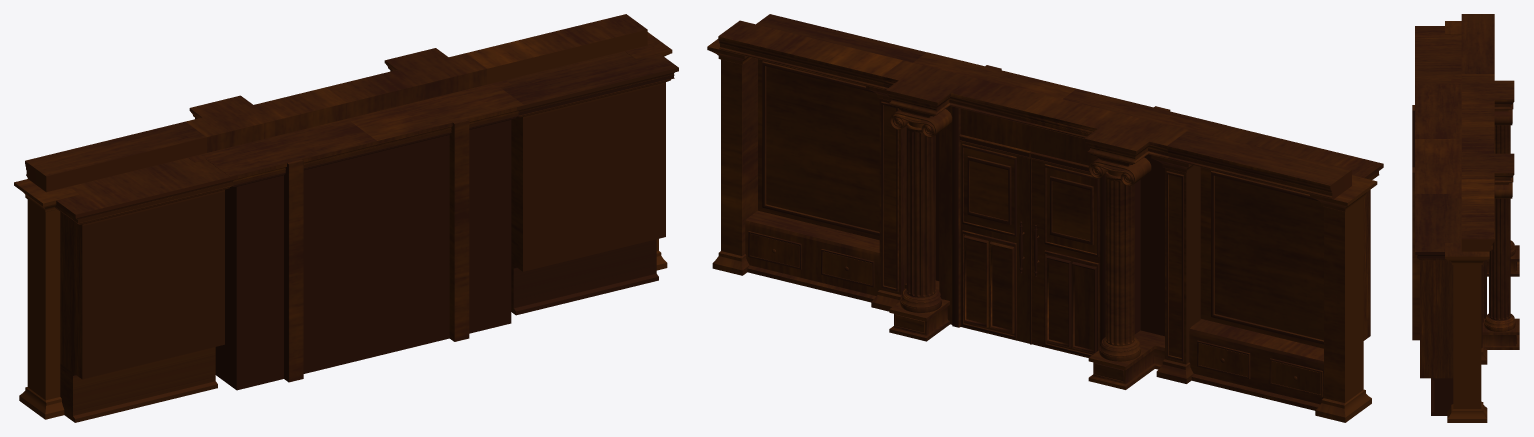
File: Door_chest.fbx
3 views of the same model, side by side, from view 1: azimuth 30°, elevation 25°; view 2: azimuth 150°, elevation 25°; view 3: azimuth 270°, elevation 25° (orthographic). The views are drawn at different scales.
Parts seen in each view (by area): view 1: Door; view 2: Door, DoorChest01, DoorChest00; view 3: Door.
Boxes of the visible parts, box(x1,y1,x2,y2) form: Door: box(14, 14, 678, 422); Door: box(707, 14, 1383, 422); DoorChest01: box(823, 251, 872, 285); DoorChest00: box(750, 233, 799, 267); Door: box(1412, 14, 1519, 422).
Bounding box in the file's own units: 299 × 106 × 57.43.
